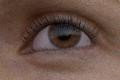eye: (49, 23, 80, 47)
